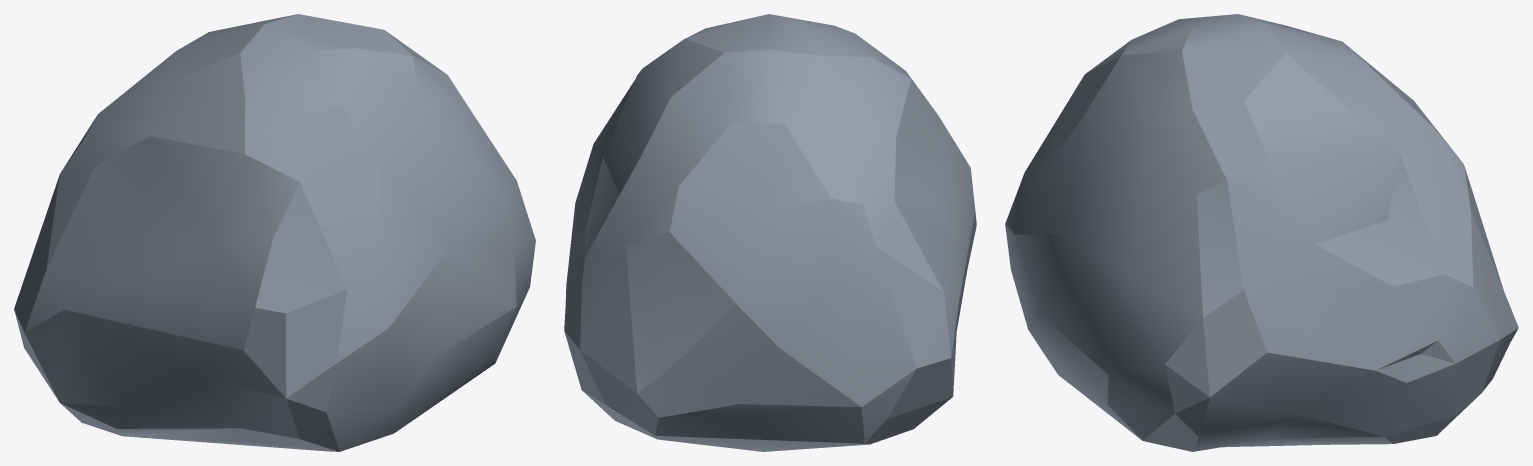
Rendered from Stone 2.fbx.
The picture shows the model from 3 angles, left to right: view 1: azimuth 30°, elevation 25°; view 2: azimuth 150°, elevation 25°; view 3: azimuth 270°, elevation 25°; orthographic projection. The views are drawn at different scales.
Visible parts, largest first — view 1: Stone.001; view 2: Stone.001; view 3: Stone.001.
Part boxes in pixels (left/top/right/bottom): Stone.001: left=14, top=14, right=535, bottom=451; Stone.001: left=564, top=14, right=976, bottom=451; Stone.001: left=1005, top=14, right=1518, bottom=451.
Size of the model in its own units: 172 by 143 by 170.
